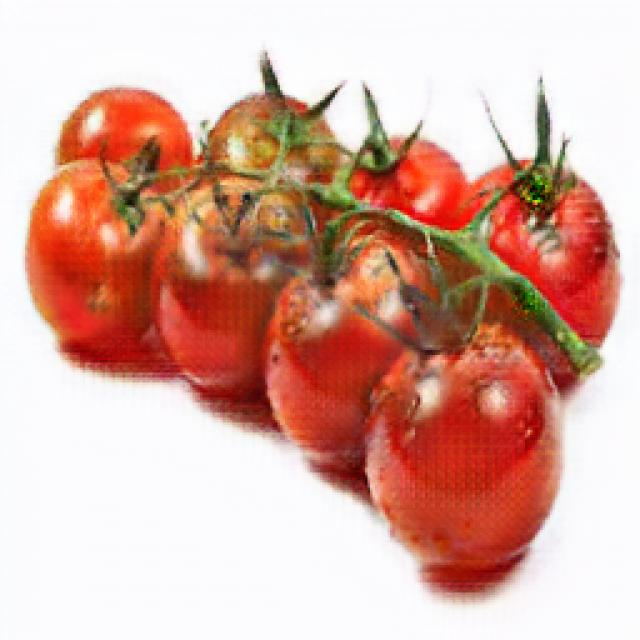overripe tomato: (365, 317, 565, 572), (154, 179, 308, 388), (266, 232, 415, 448), (463, 161, 614, 361), (27, 166, 170, 356)
